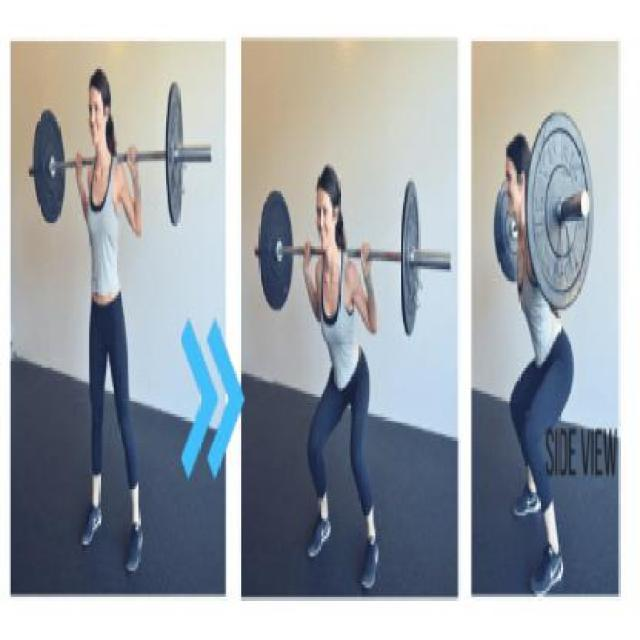Barbell: (578, 185, 592, 224)
